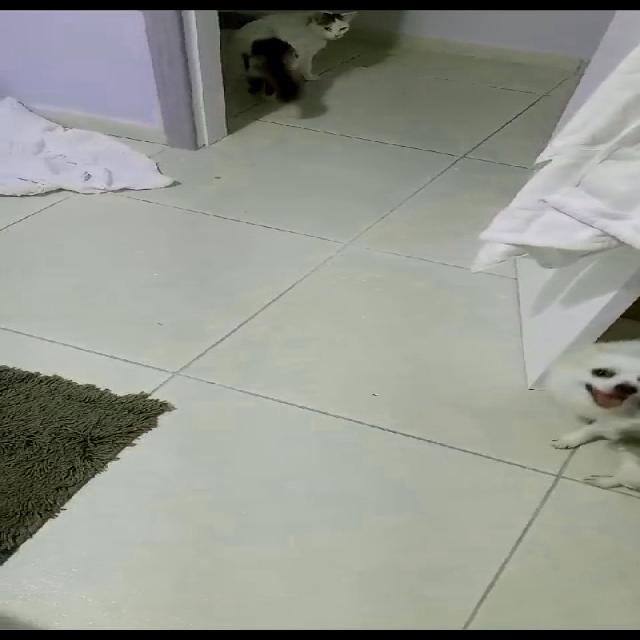Simba: (222, 12, 358, 110)
Theo: (557, 324, 639, 478)
